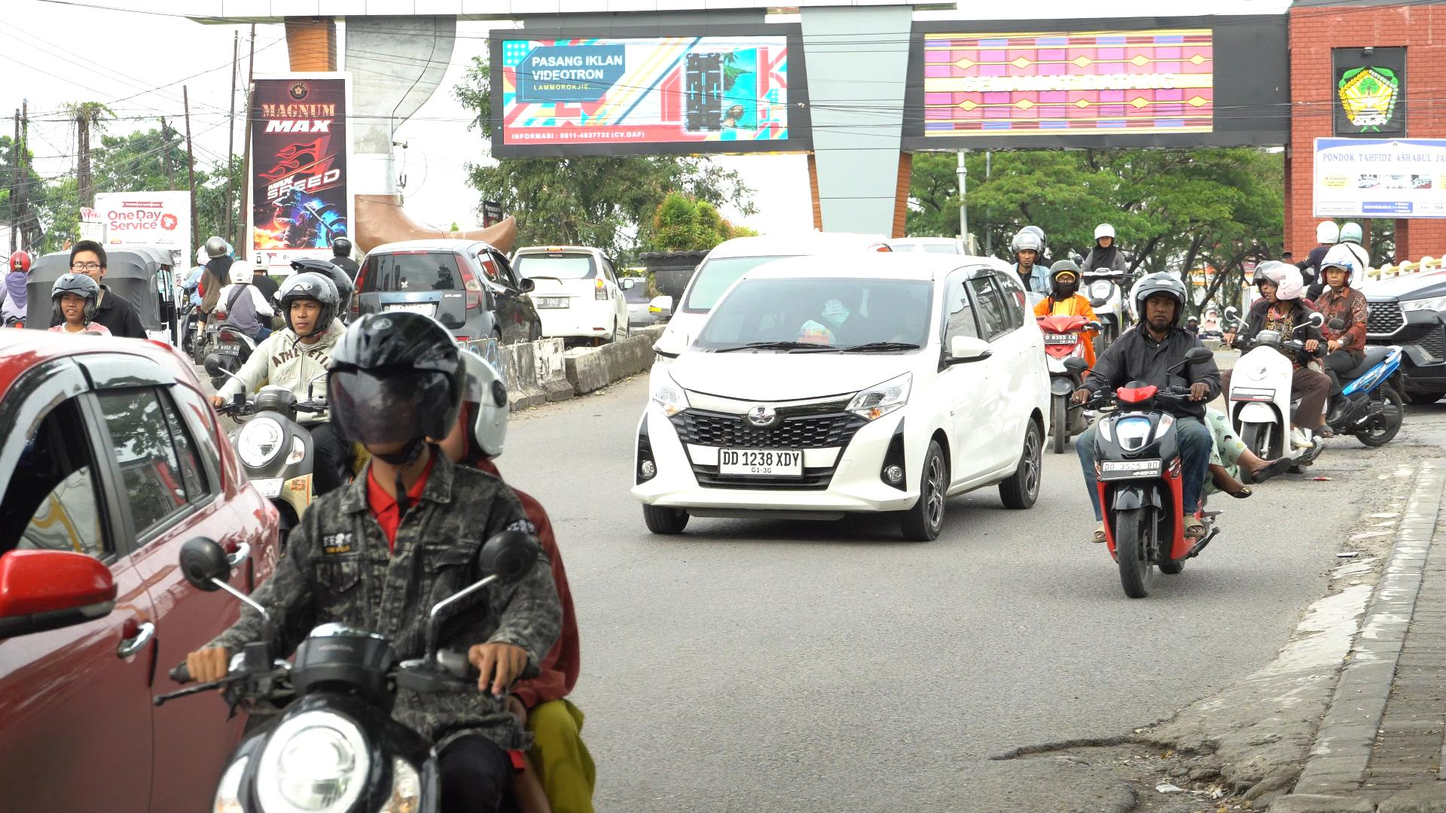number-plate: (1100, 453, 1157, 480)
